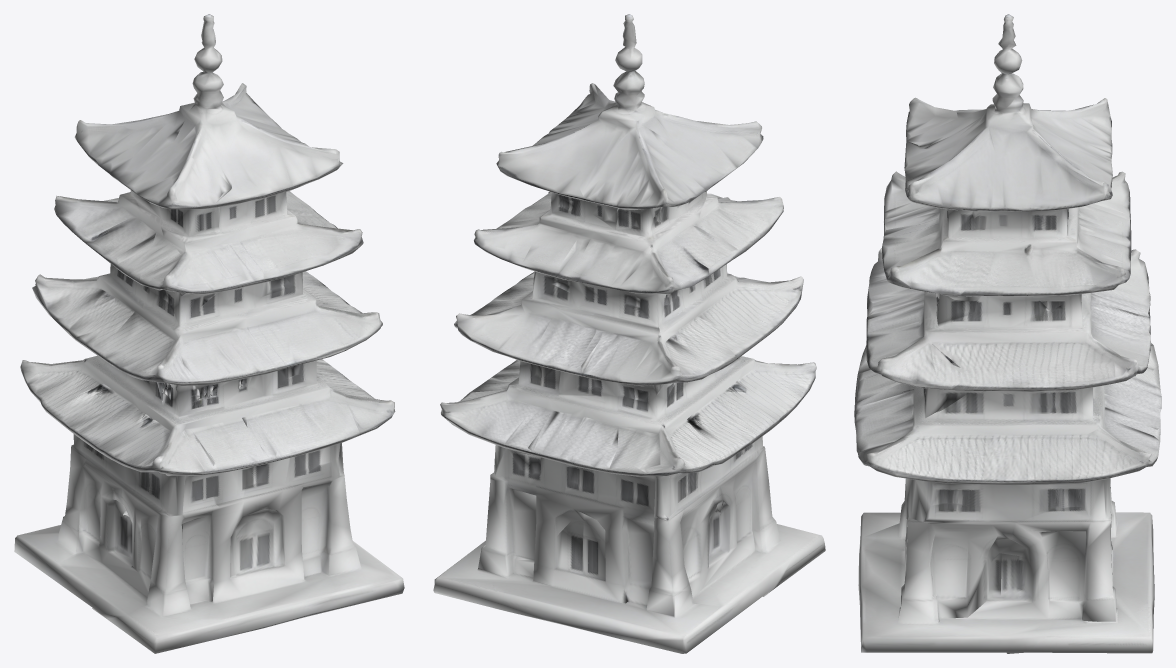
Rendered from Rook.fbx.
The picture shows the model from 3 angles, left to right: view 1: azimuth 30°, elevation 25°; view 2: azimuth 150°, elevation 25°; view 3: azimuth 270°, elevation 25°; orthographic projection. The views are drawn at different scales.
Parts seen in each view (by area): view 1: Mesh_0; view 2: Mesh_0; view 3: Mesh_0.
Boxes of the visible parts, <box> form: Mesh_0: <box>14,14,404,653</box>; Mesh_0: <box>433,14,825,653</box>; Mesh_0: <box>854,14,1161,653</box>.
Size of the model in its own units: 97.45 by 200 by 96.75.
Materials: 1 (1 with a texture image).
